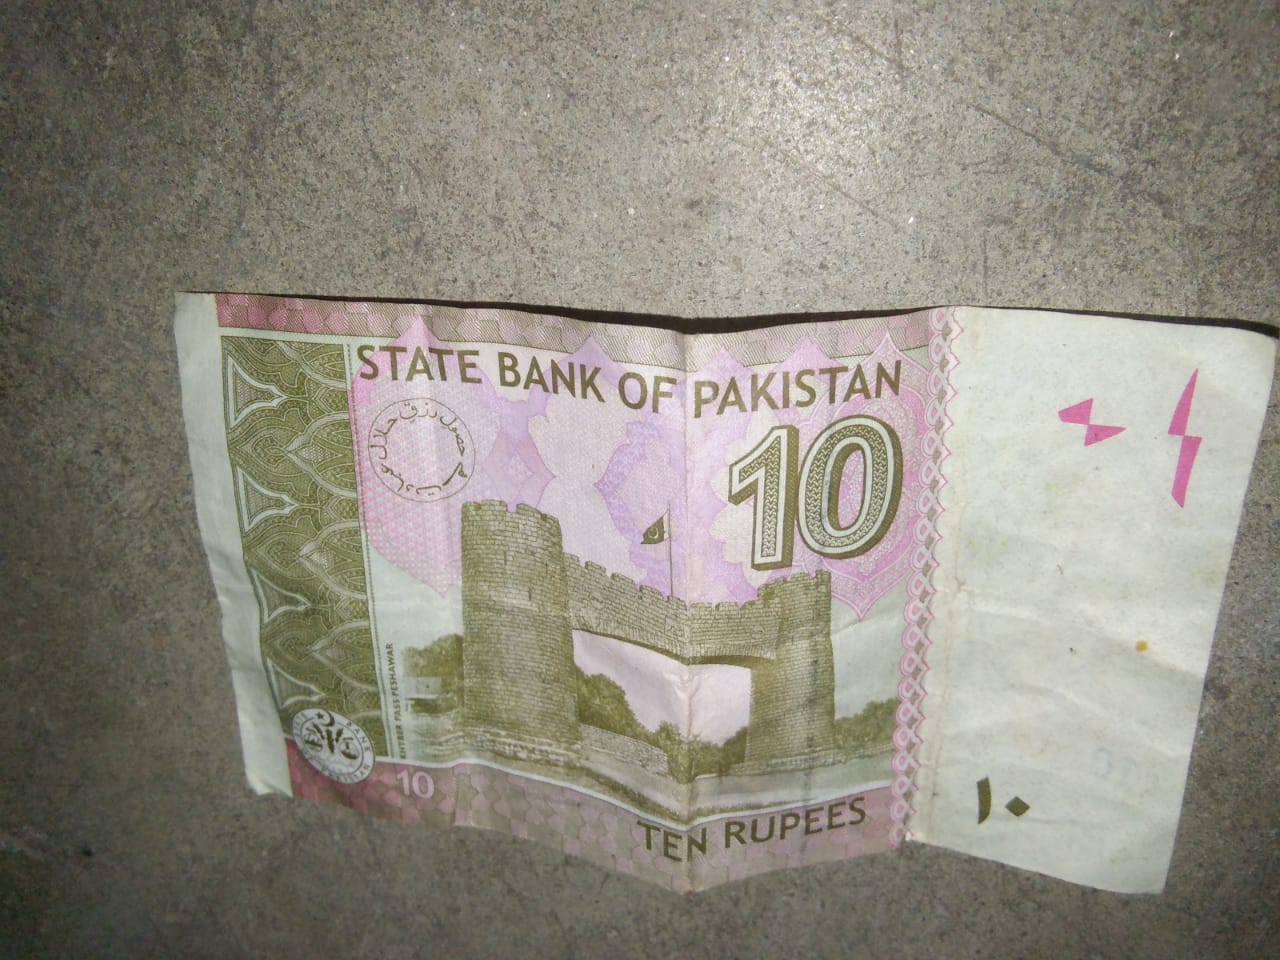10 rupee: (119, 272, 1280, 917)
